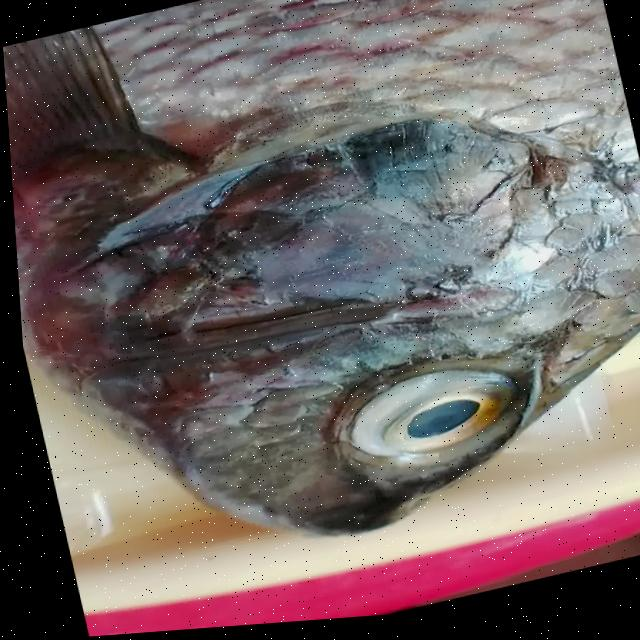Fresh: (0, 0, 628, 368), (309, 340, 569, 502)
